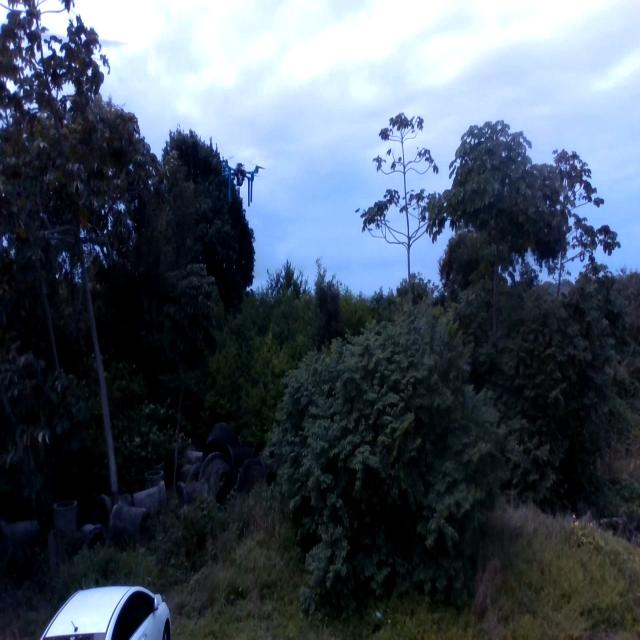-uav-: (215, 142, 271, 219)
